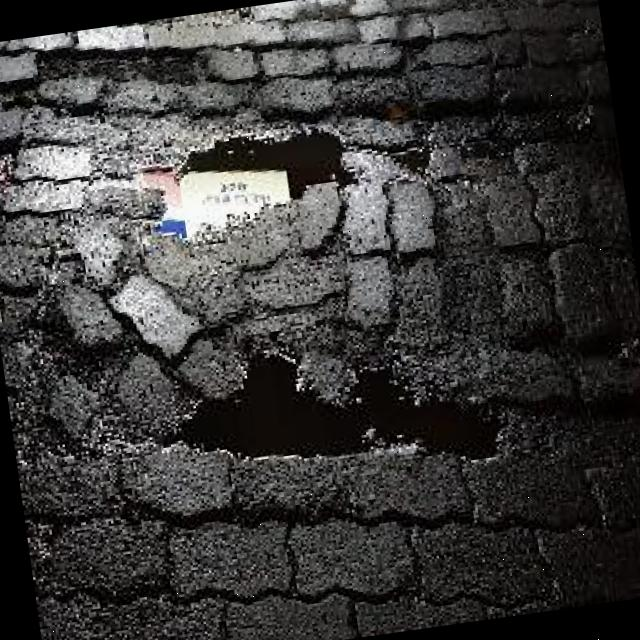waterlogging: (186, 332, 494, 500), (160, 114, 353, 233)
